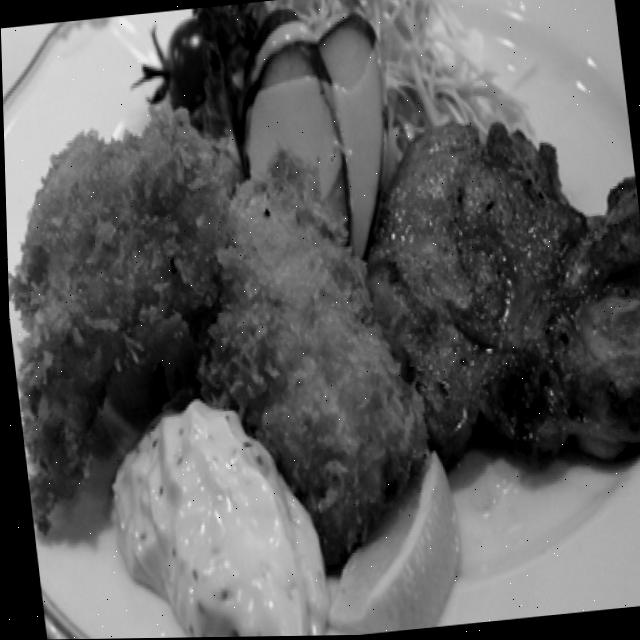炸货点心: (2, 91, 640, 513)
熟制海鲜: (2, 91, 640, 513)
